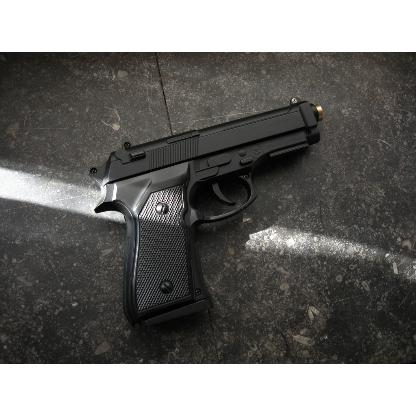gun: (88, 96, 324, 330)
